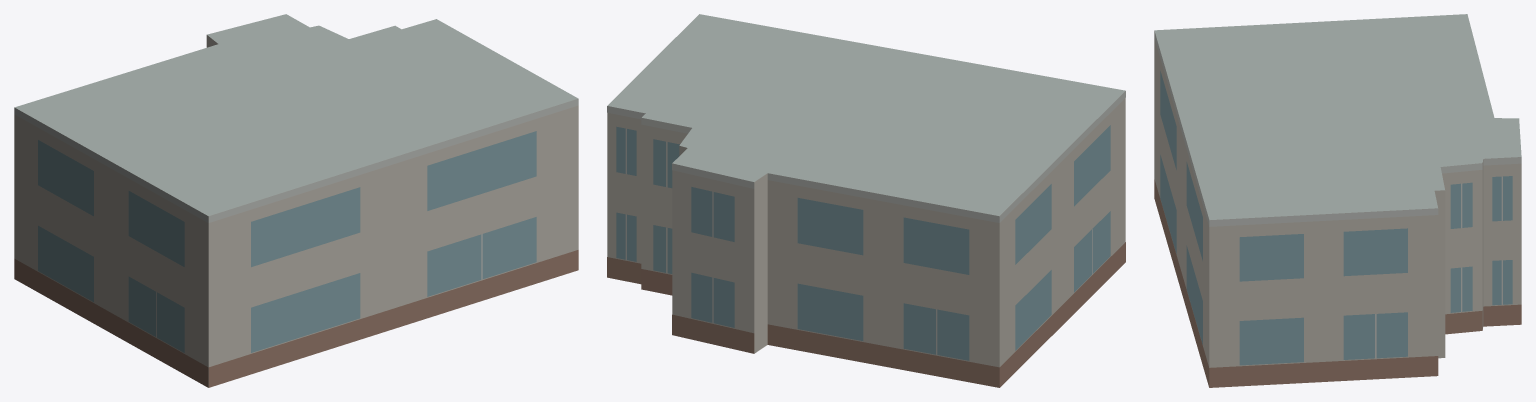
The model's file is survey-upis-32622129.glb.
3 views of the same model, side by side, from view 1: azimuth 30°, elevation 25°; view 2: azimuth 150°, elevation 25°; view 3: azimuth 270°, elevation 25° (orthographic). The views are drawn at different scales.
Visible parts, largest first — view 1: survey-upis-32622129.tmp; view 2: survey-upis-32622129.tmp; view 3: survey-upis-32622129.tmp.
Part boxes in pixels (bbox=[...]): survey-upis-32622129.tmp: bbox=[14, 14, 578, 387]; survey-upis-32622129.tmp: bbox=[607, 14, 1125, 387]; survey-upis-32622129.tmp: bbox=[1154, 14, 1521, 387].
Size of the model in its own units: 16.09 by 6.1 by 12.12.
